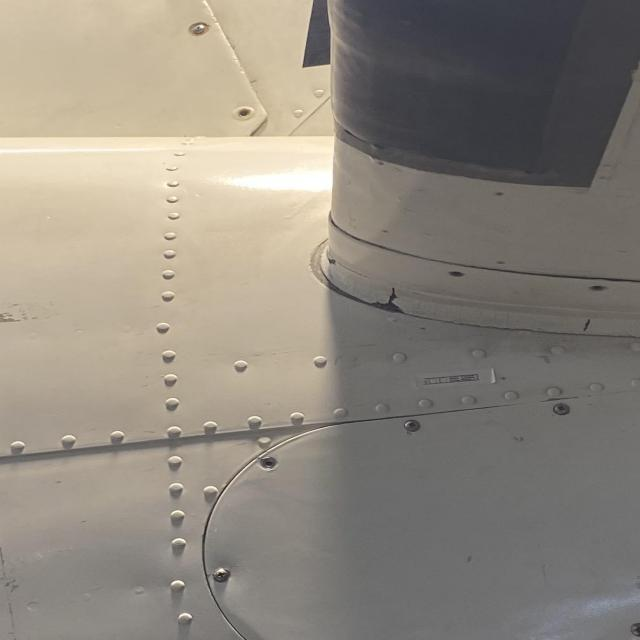Missing-head: (256, 455, 279, 471), (235, 105, 255, 120), (590, 284, 608, 292), (448, 270, 463, 278)
